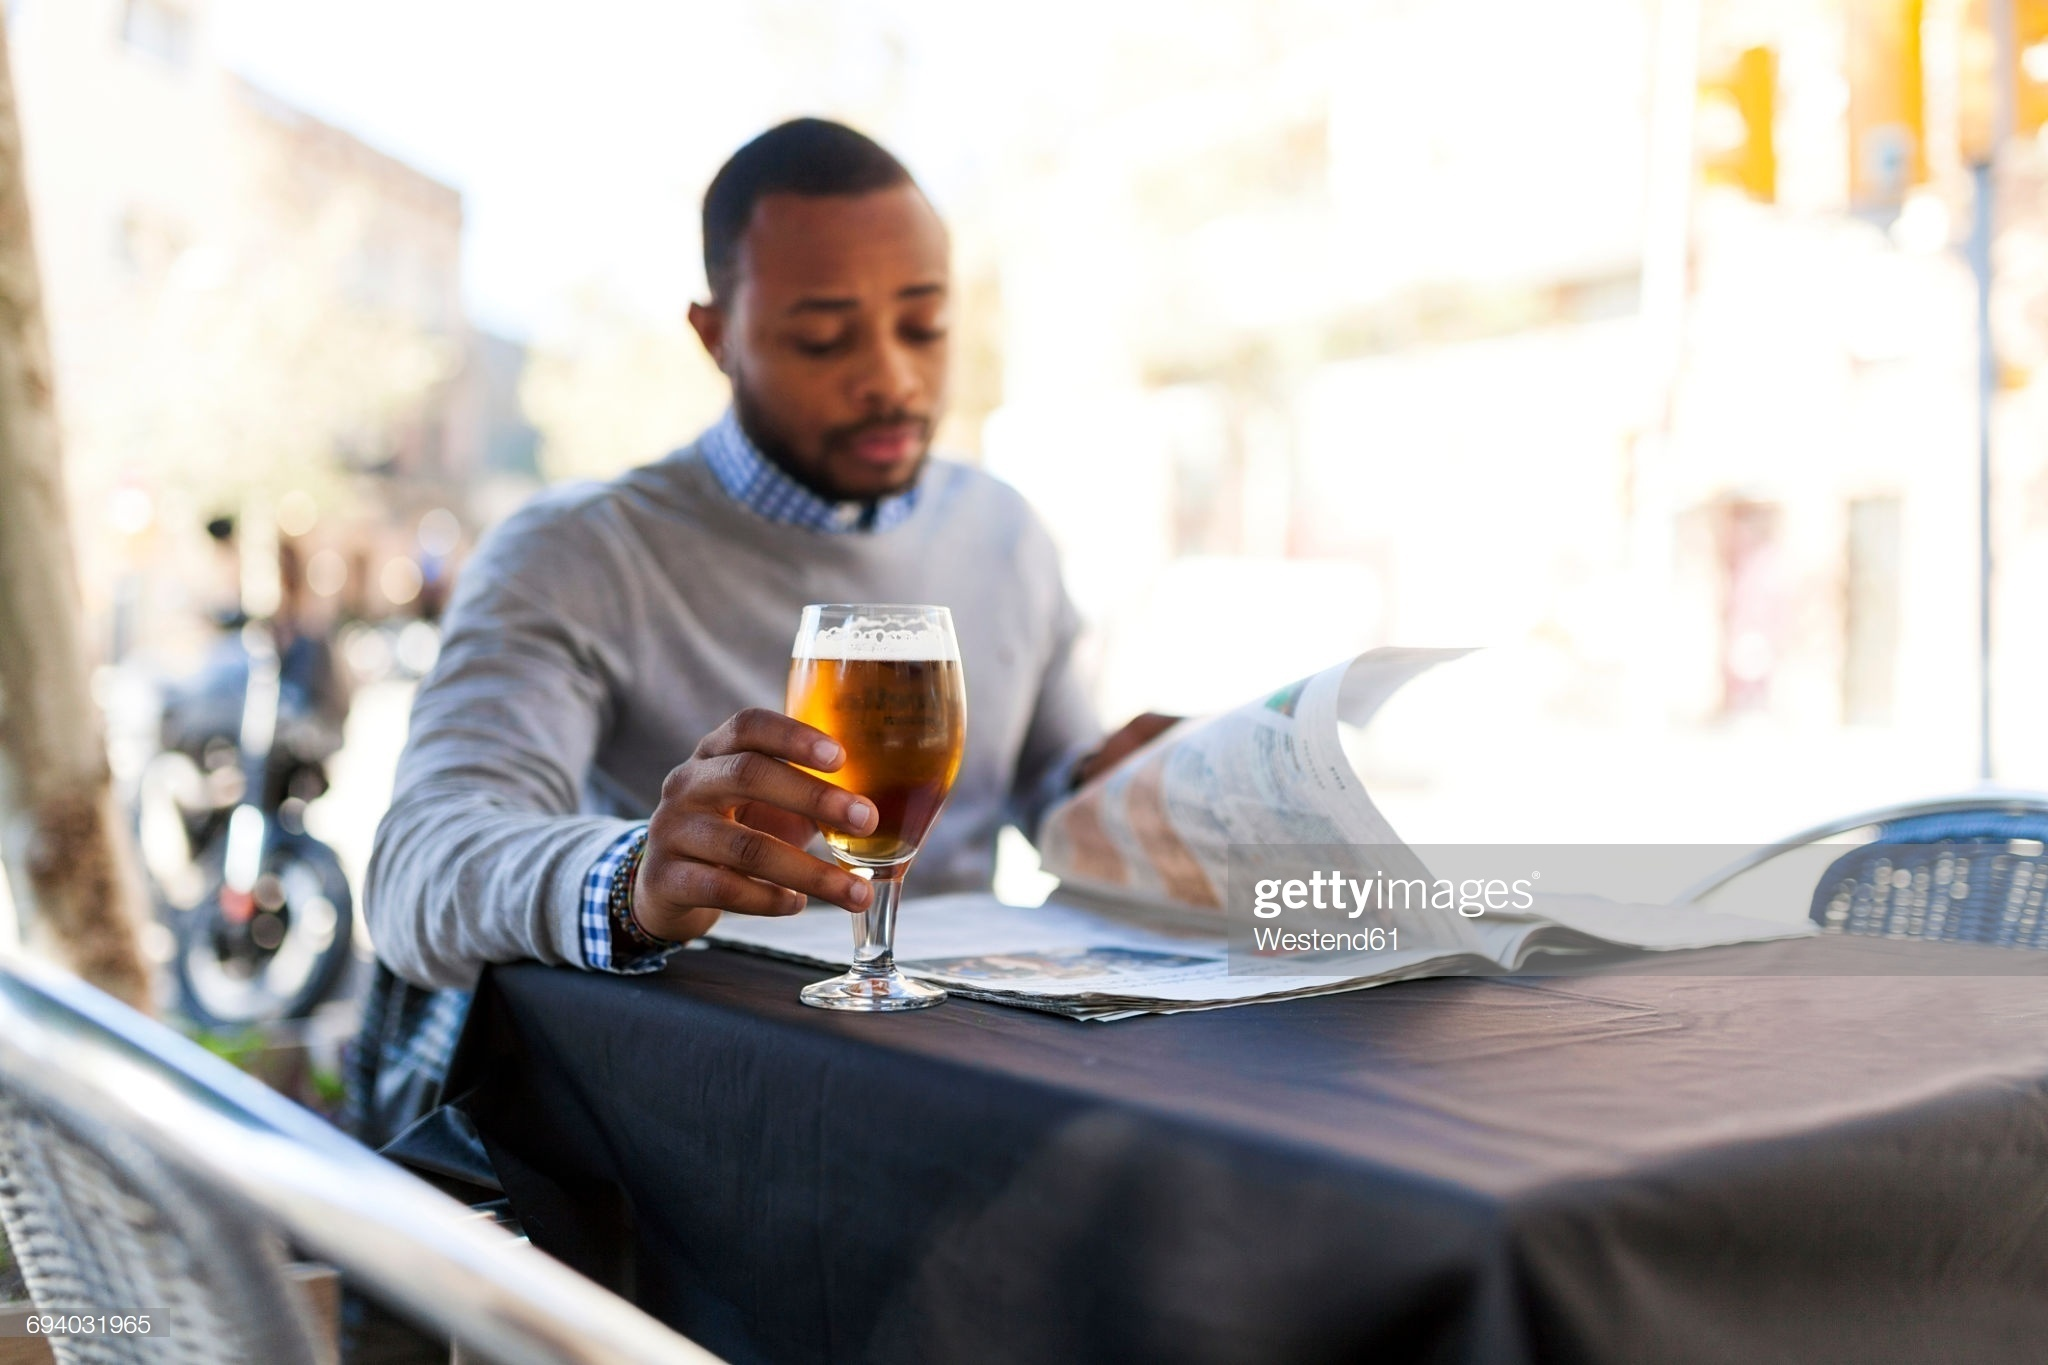whiskey: (778, 591, 958, 992)
